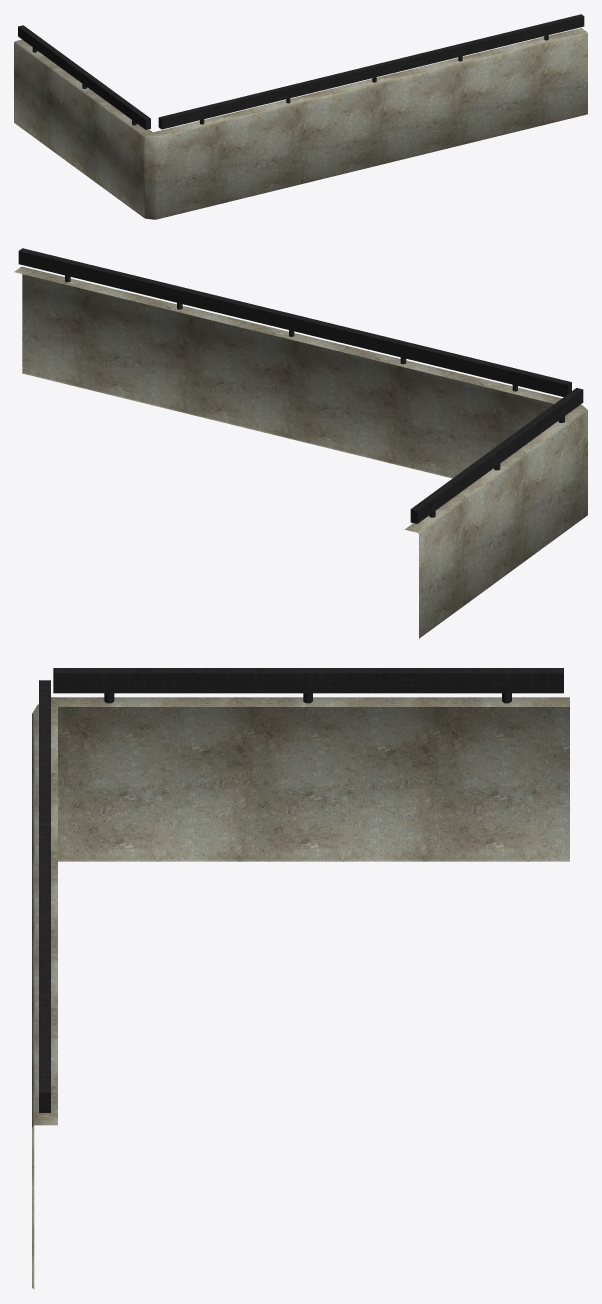
File: concrete_wall_corner.FBX
3 renders of one model, top to bottom at view 1: azimuth 30°, elevation 25°; view 2: azimuth 150°, elevation 25°; view 3: azimuth 270°, elevation 25°, orthographic. The views are drawn at different scales.
Parts seen in each view (by area): view 1: Box001, Box004; view 2: Box001, Box004; view 3: Box001, Box004.
Part boxes in pixels (<box>): Box001: <box>14,28,587,219</box>; Box004: <box>18,14,584,129</box>; Box001: <box>14,266,587,638</box>; Box004: <box>18,248,583,523</box>; Box001: <box>32,697,569,1289</box>; Box004: <box>39,668,563,1112</box>.
Bounding box in the file's own units: 927 × 197 × 491.
